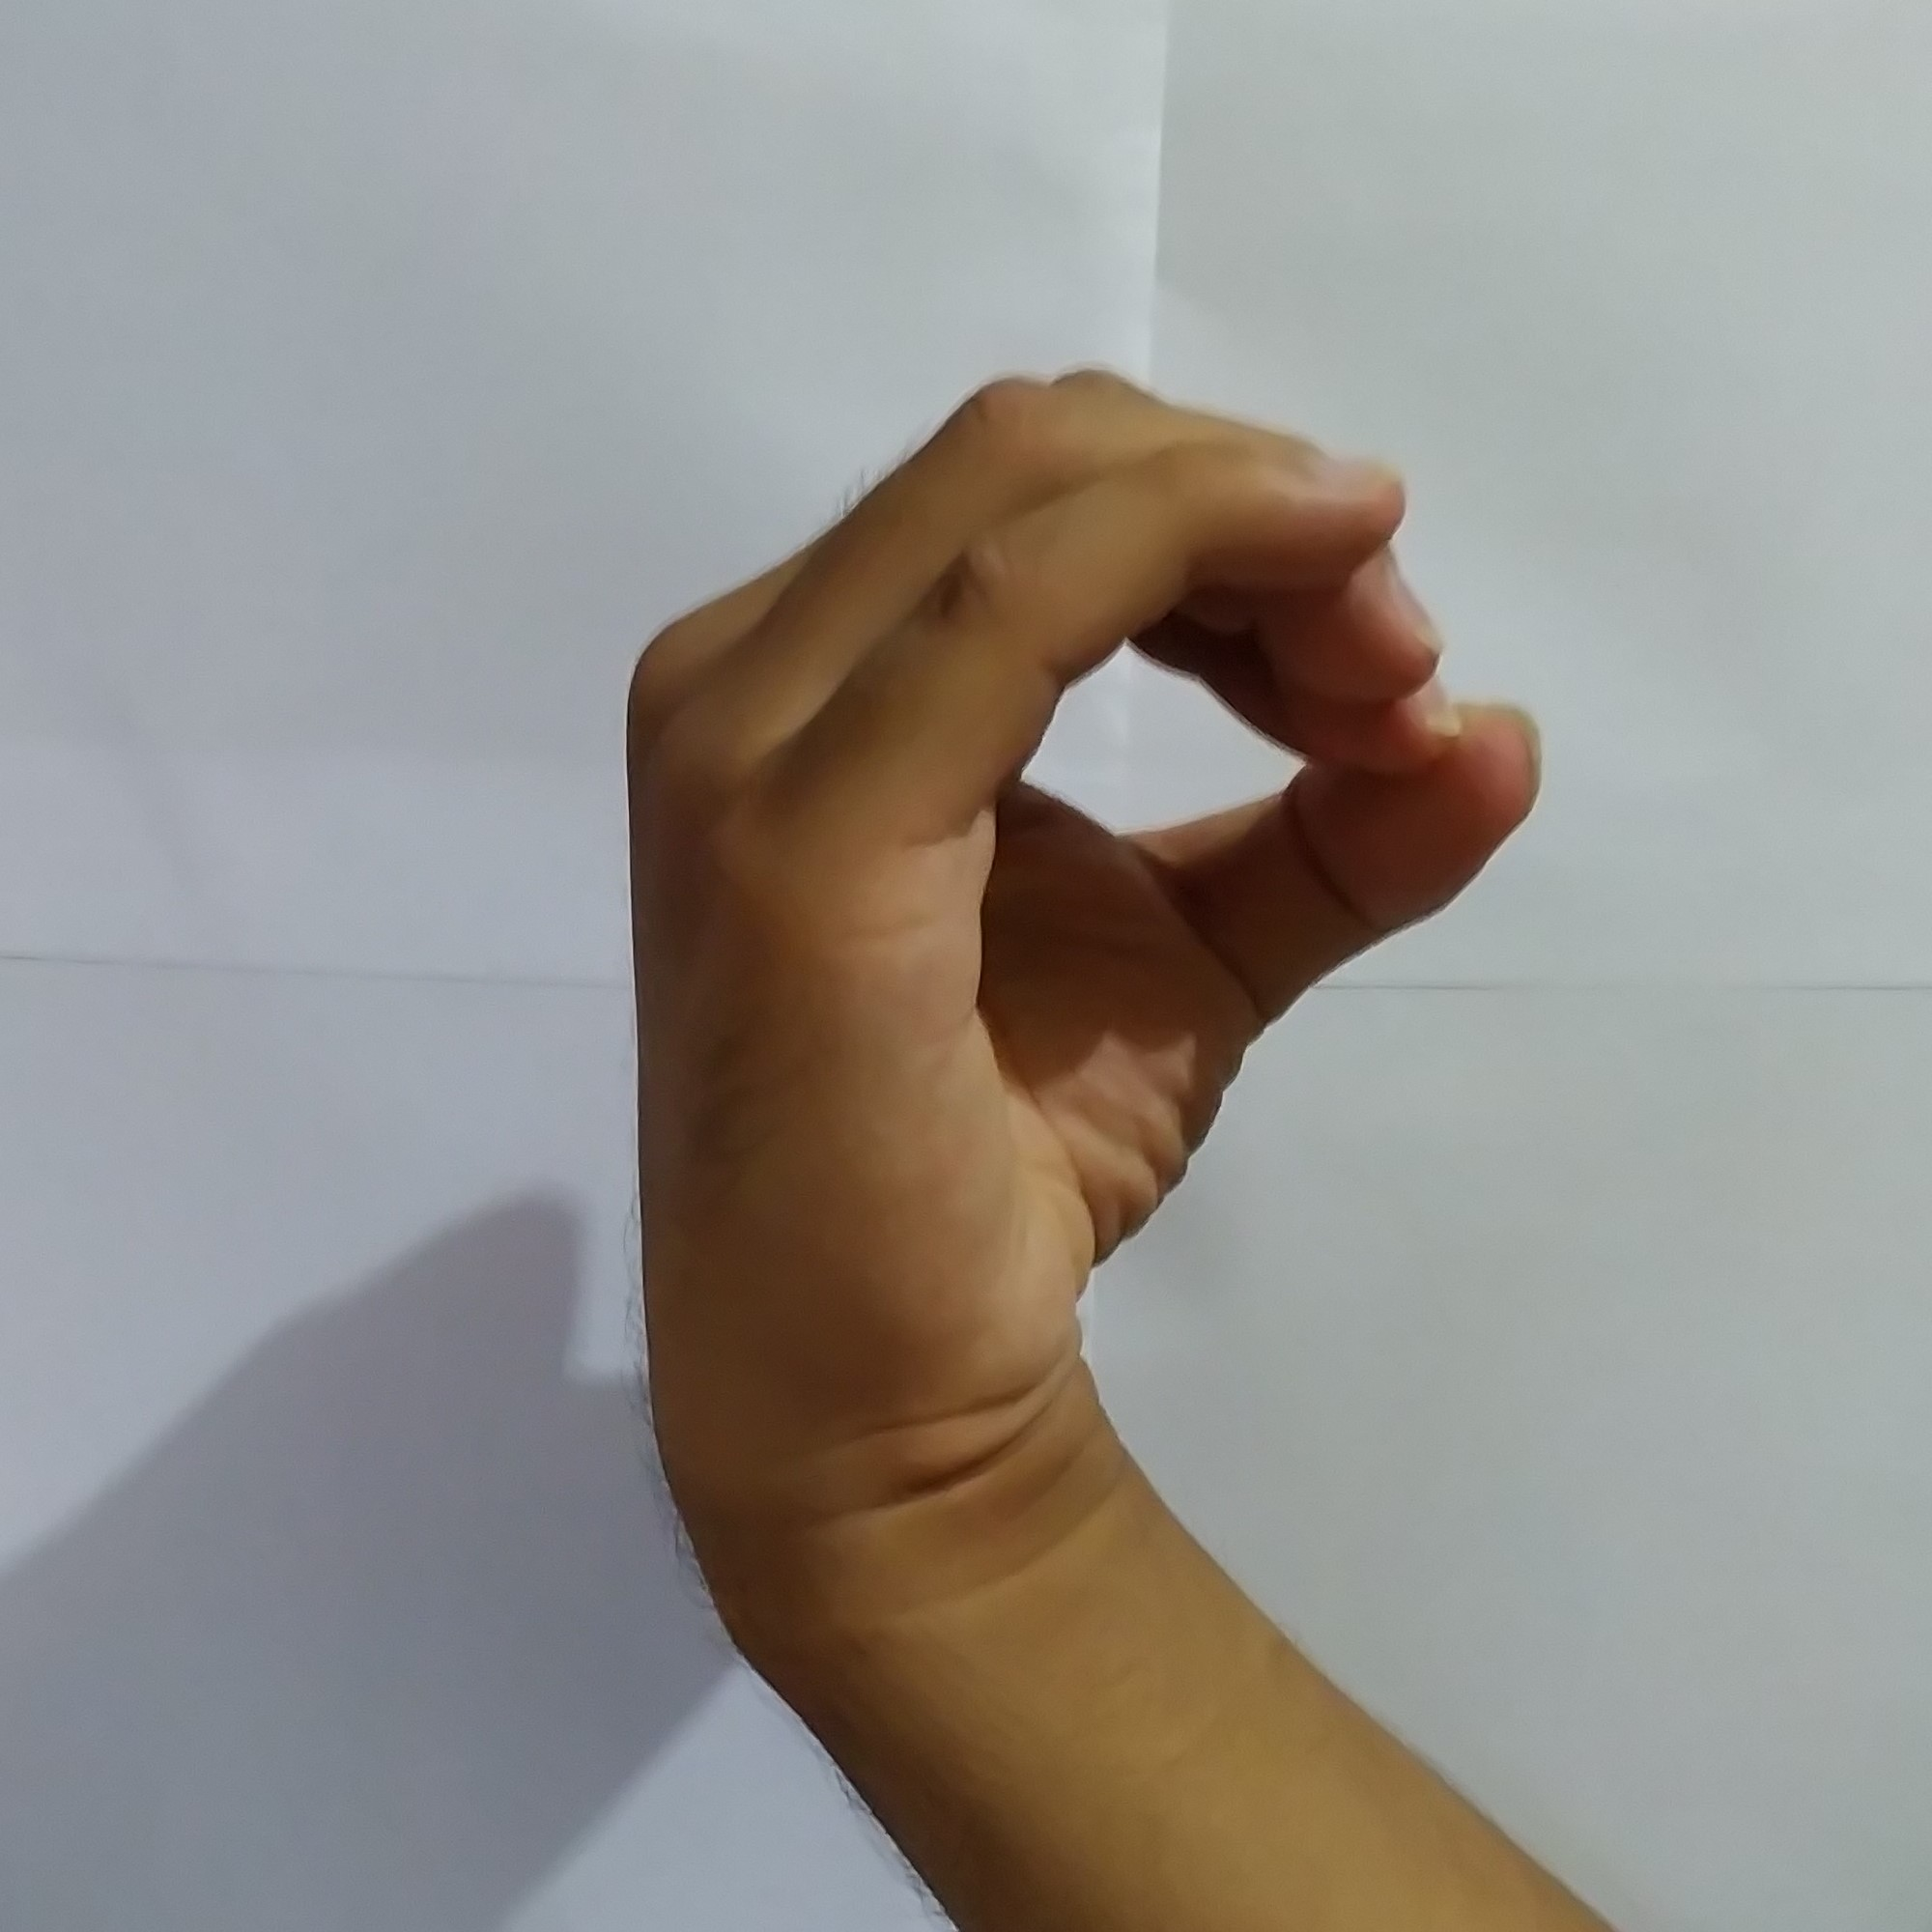O: (591, 349, 1559, 1430)
